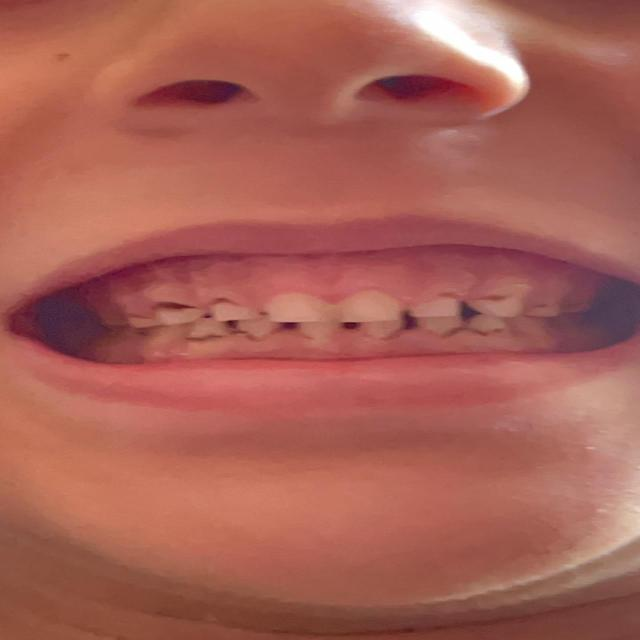tooth: (260, 297, 326, 321), (340, 298, 399, 322), (408, 299, 459, 315), (154, 304, 196, 323), (481, 300, 526, 316), (418, 318, 461, 334), (300, 321, 336, 338), (367, 320, 399, 336), (240, 322, 272, 336), (217, 302, 244, 318), (202, 322, 228, 338), (123, 316, 153, 328), (482, 319, 503, 332), (538, 308, 556, 316)
